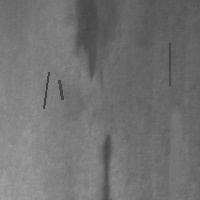inclusion: (67, 1, 105, 86), (97, 130, 117, 199), (41, 70, 50, 110), (167, 41, 171, 87), (57, 78, 64, 101)
